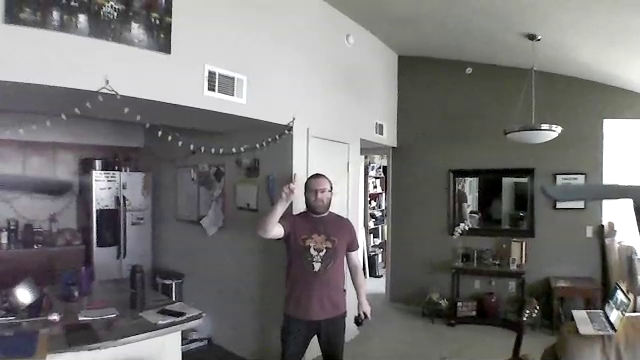up: (281, 170, 301, 200)
